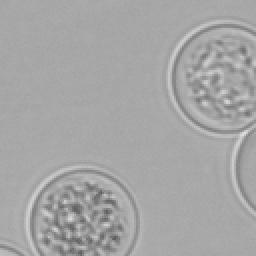picoshell: (24, 164, 142, 254), (166, 20, 254, 136), (230, 126, 254, 216), (0, 240, 28, 254)
